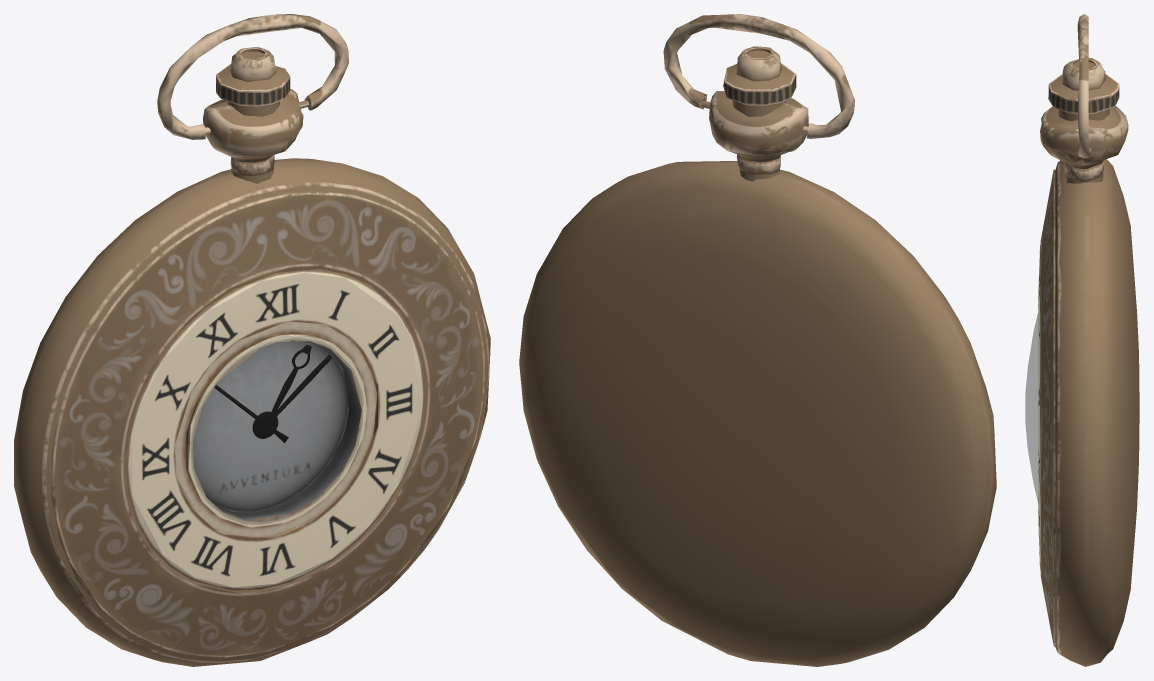
File: vintage_pocket_watch.glb
3 renders of one model, left to right at view 1: azimuth 30°, elevation 25°; view 2: azimuth 150°, elevation 25°; view 3: azimuth 270°, elevation 25°, orthographic. The views are drawn at different scales.
Parts seen in each view (by area): view 1: vintage_pocket_watch; view 2: vintage_pocket_watch; view 3: vintage_pocket_watch.
Boxes of the visible parts, box(x1,y1,x2,y2) form: vintage_pocket_watch: box(14, 14, 490, 666); vintage_pocket_watch: box(519, 14, 996, 666); vintage_pocket_watch: box(1025, 14, 1139, 666).
Bounding box in the file's own units: 0.0613 × 0.0799 × 0.0135.
Materials: 3 (1 with a texture image).
